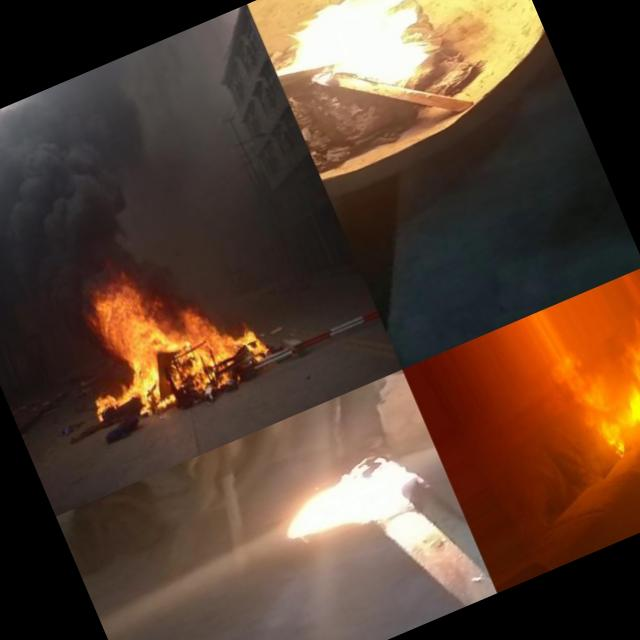fire: (50, 246, 264, 425), (251, 412, 449, 590), (256, 0, 490, 141), (591, 304, 640, 421), (600, 424, 632, 468)
smoke: (0, 82, 144, 339), (62, 56, 180, 215), (124, 14, 255, 133), (543, 342, 616, 434), (617, 408, 640, 463)
